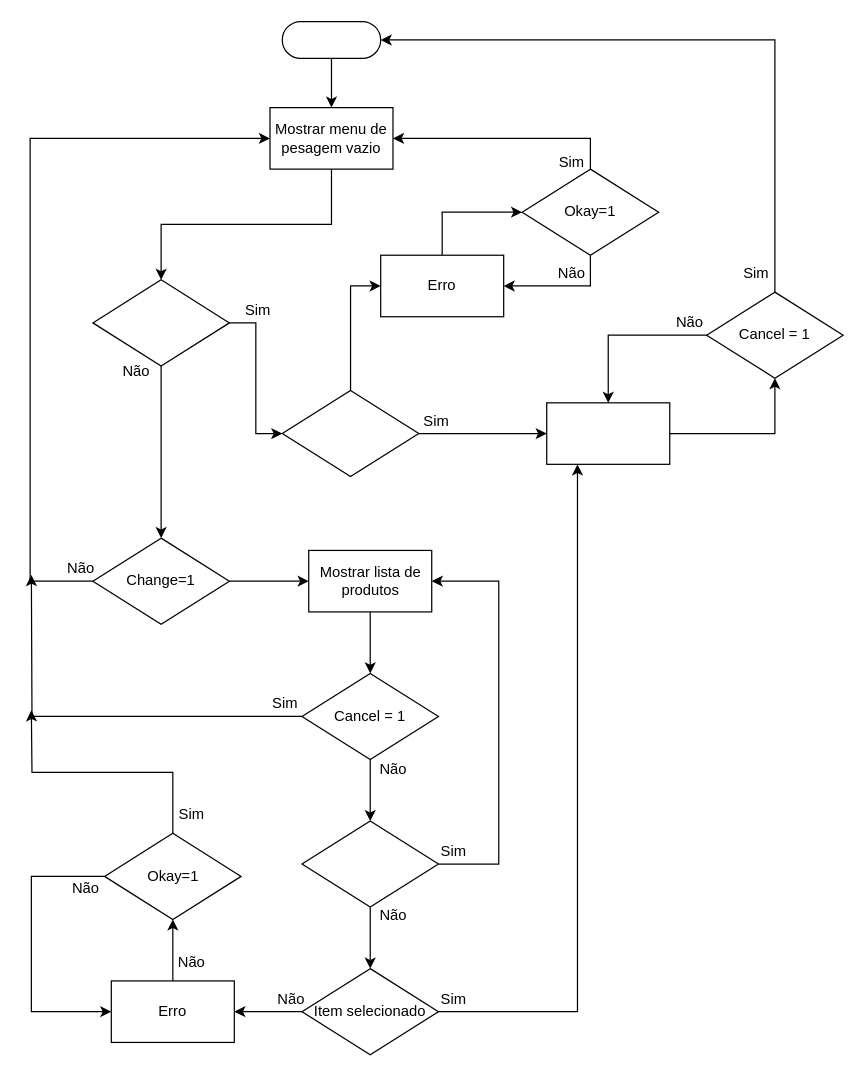
Image size: 865x1076. Some labels were removed from this diagram. The shapes that lost their labels are listed below. From the top down, each one's centre as x and y in pixels, then its label:
At [331,39]: "Início".
At [160,322]: "Código de produto na RAM".
At [350,433]: "Código presente na tabela".
At [608,433]: "Mostrar menu de pesagem".
At [369,863]: "Next = 1".
